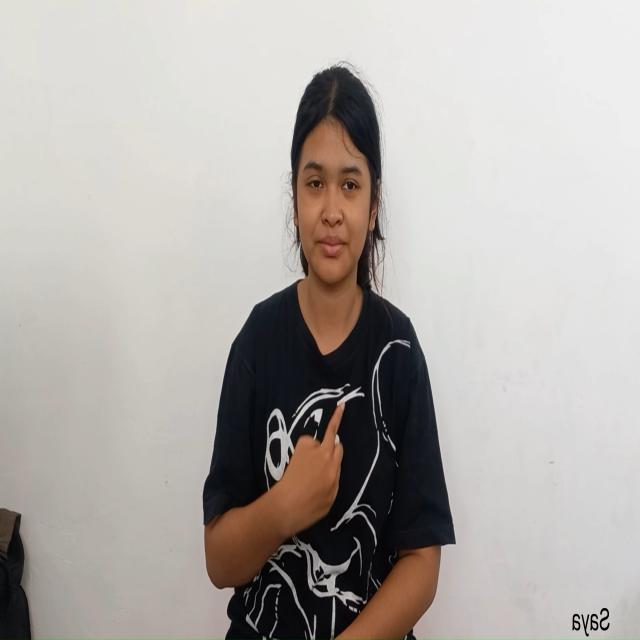Saya -BISINDO-: (202, 388, 346, 596)
